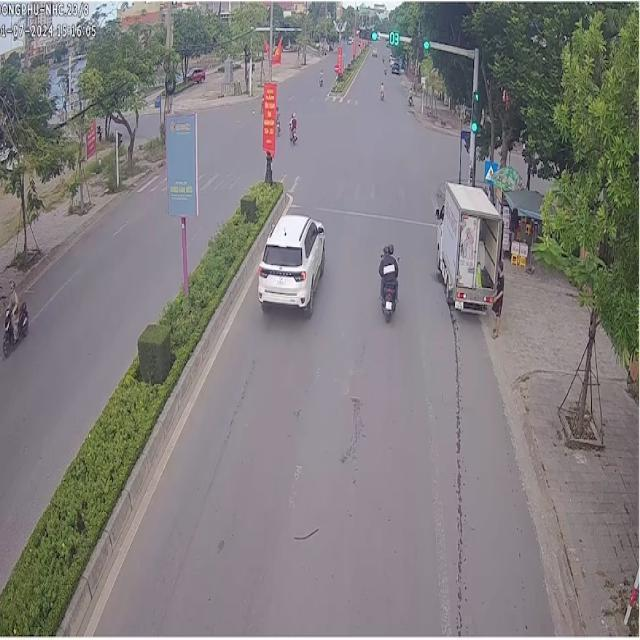car: (434, 180, 500, 311), (257, 213, 323, 314)
green_light: (469, 89, 480, 133), (411, 33, 430, 53), (356, 26, 377, 43), (389, 30, 400, 48)
motobike: (377, 242, 397, 320), (1, 307, 14, 355), (15, 299, 27, 337), (287, 110, 296, 142)
stop_line: (285, 201, 433, 225)
